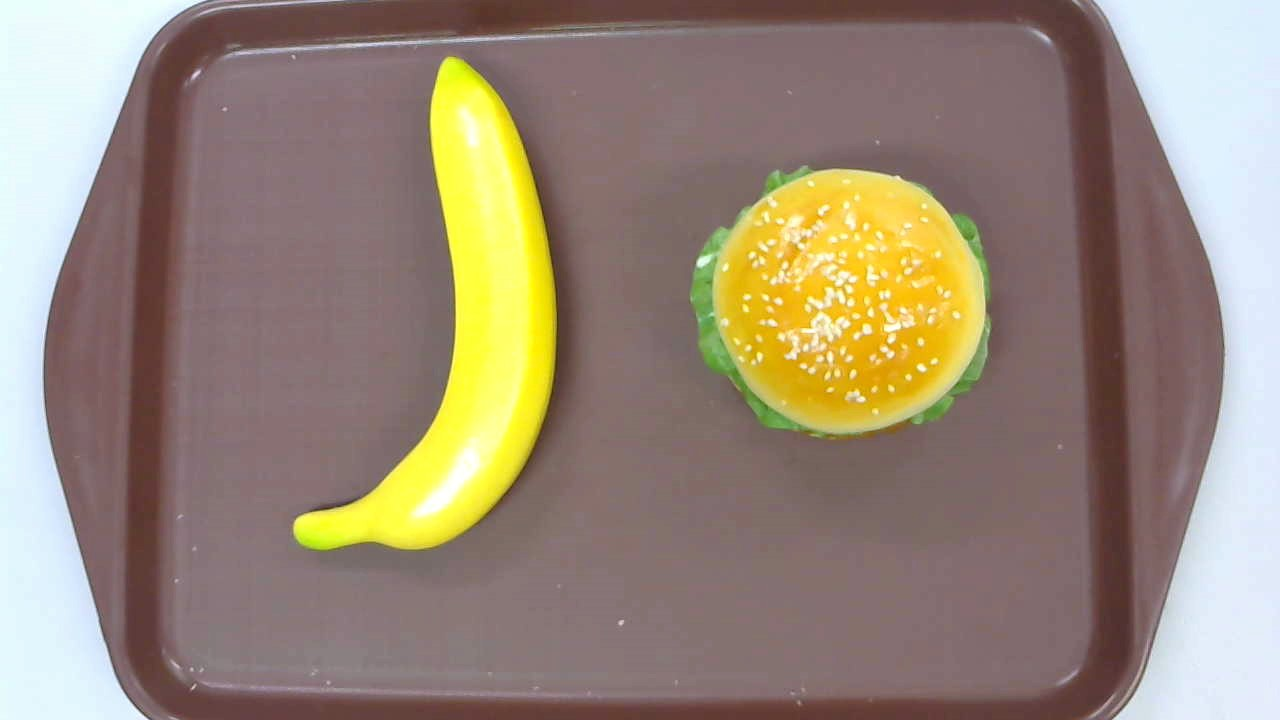banana: (292, 57, 559, 555)
hamburger: (691, 163, 994, 445)
